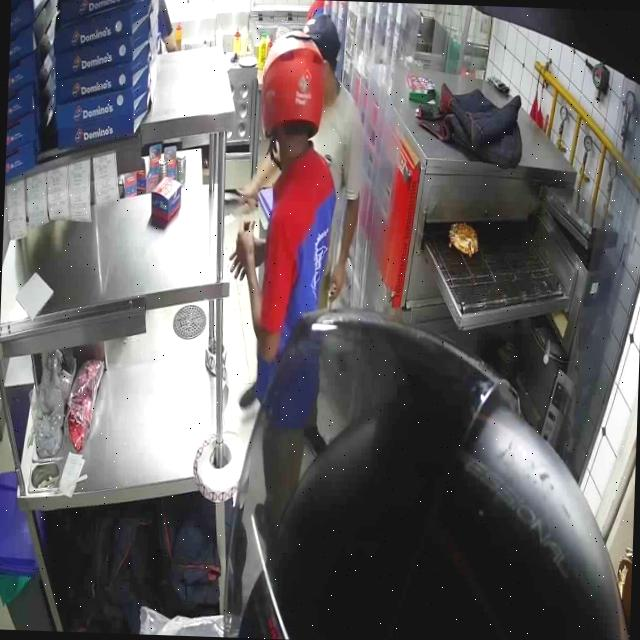helmet: (259, 30, 325, 166)
